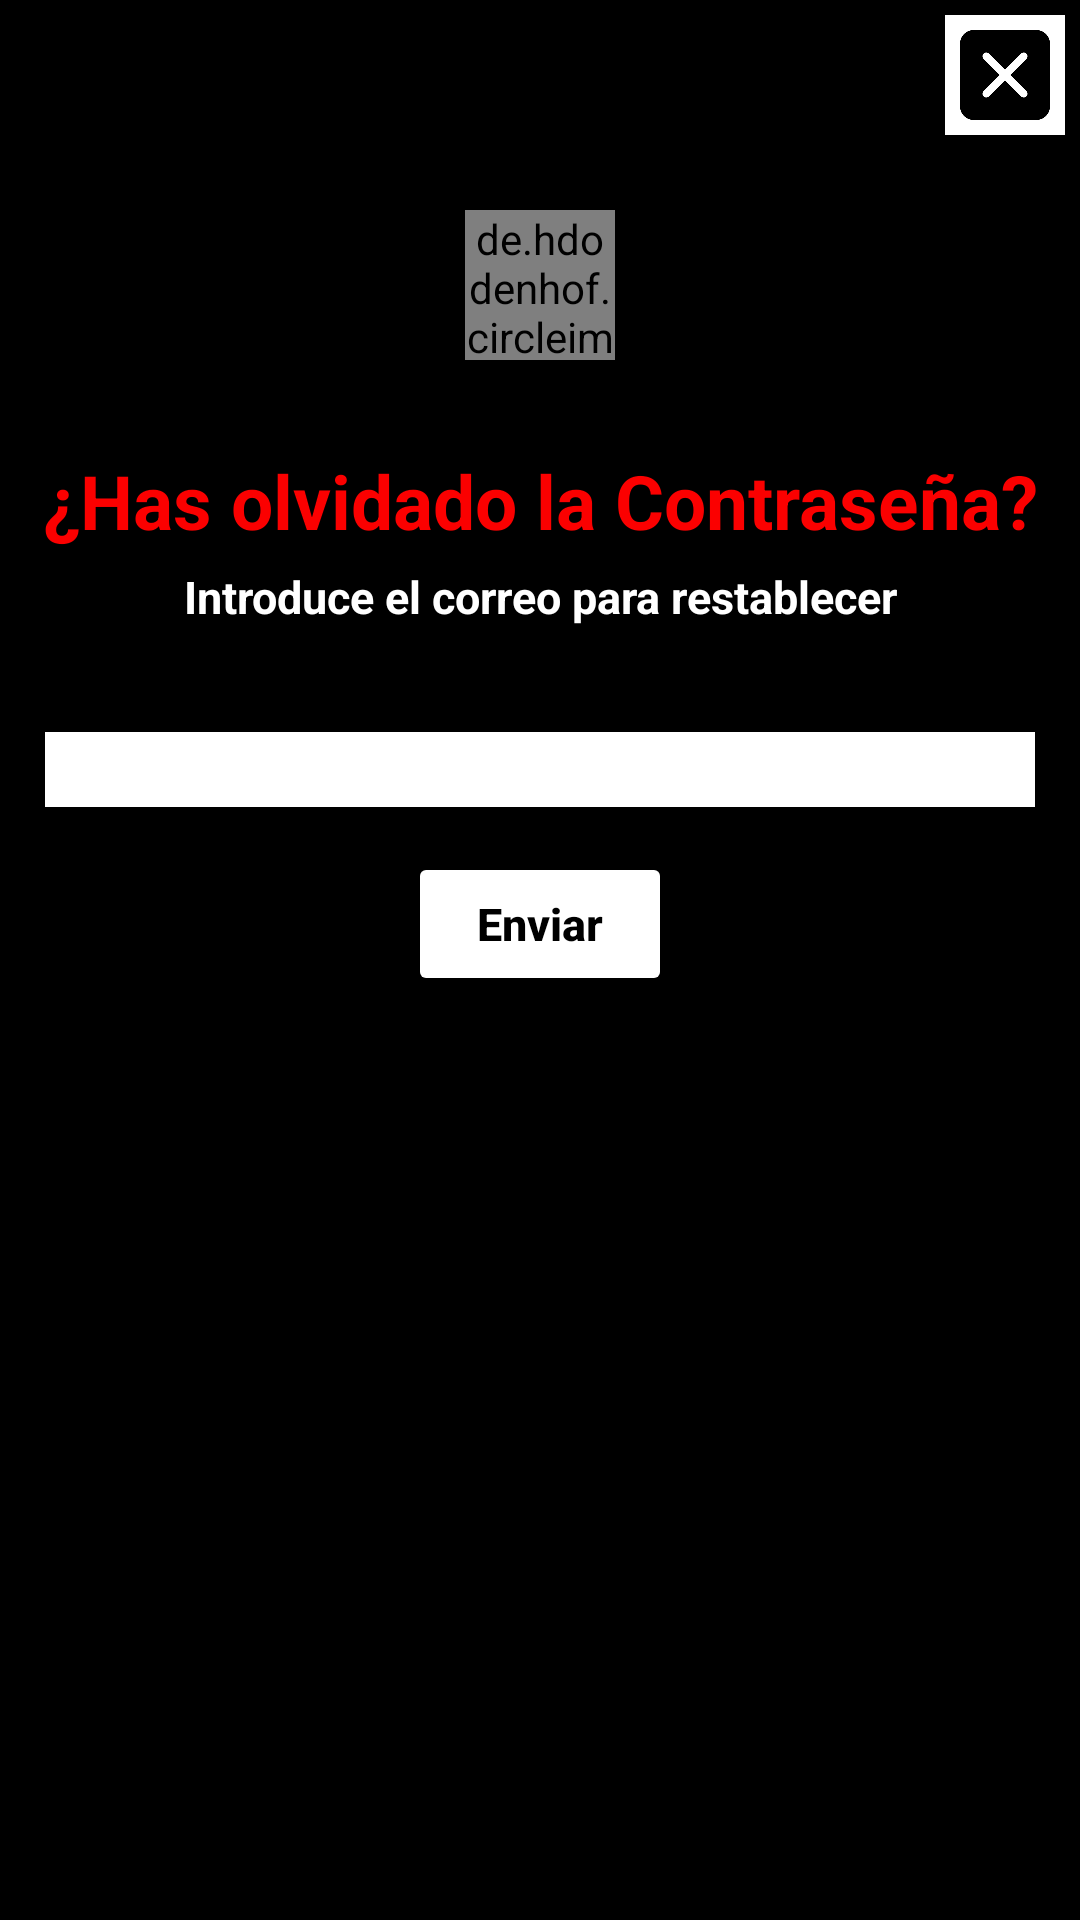

Point at icon controls on the screen. Image size 1080w x 1920h, points as (x,y).
cross: (1005,75)
